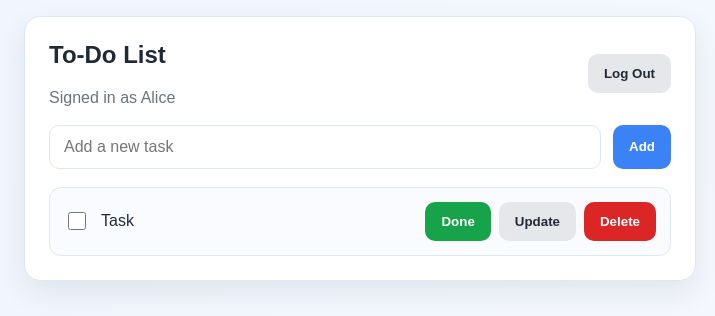
Test: updates and deletes a task using the server responses
Expected: the text "Task" is shown, [101,212,134,230]
Click the button "Done" at (458, 221), box [426,202,491,241]
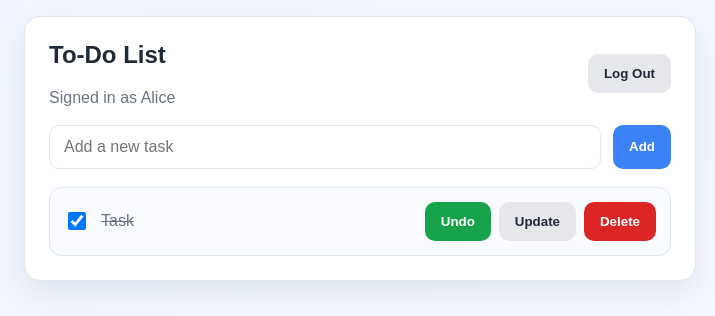
Now the checkbox named "Mark Task incomplete" is checked, box [68,212,86,230]
Click the button "Delete" at (620, 221), box [584,202,656,241]
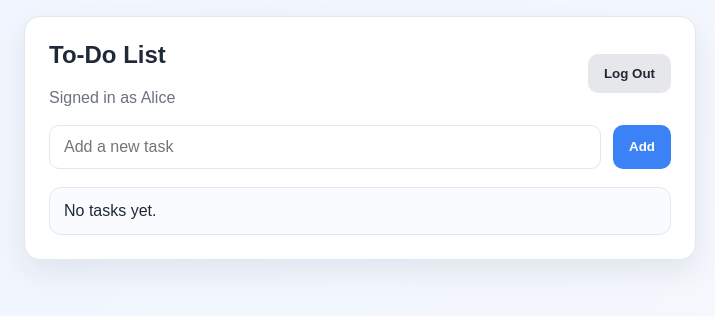
Now the list item "No tasks yet." is shown, box [49,187,671,235]
